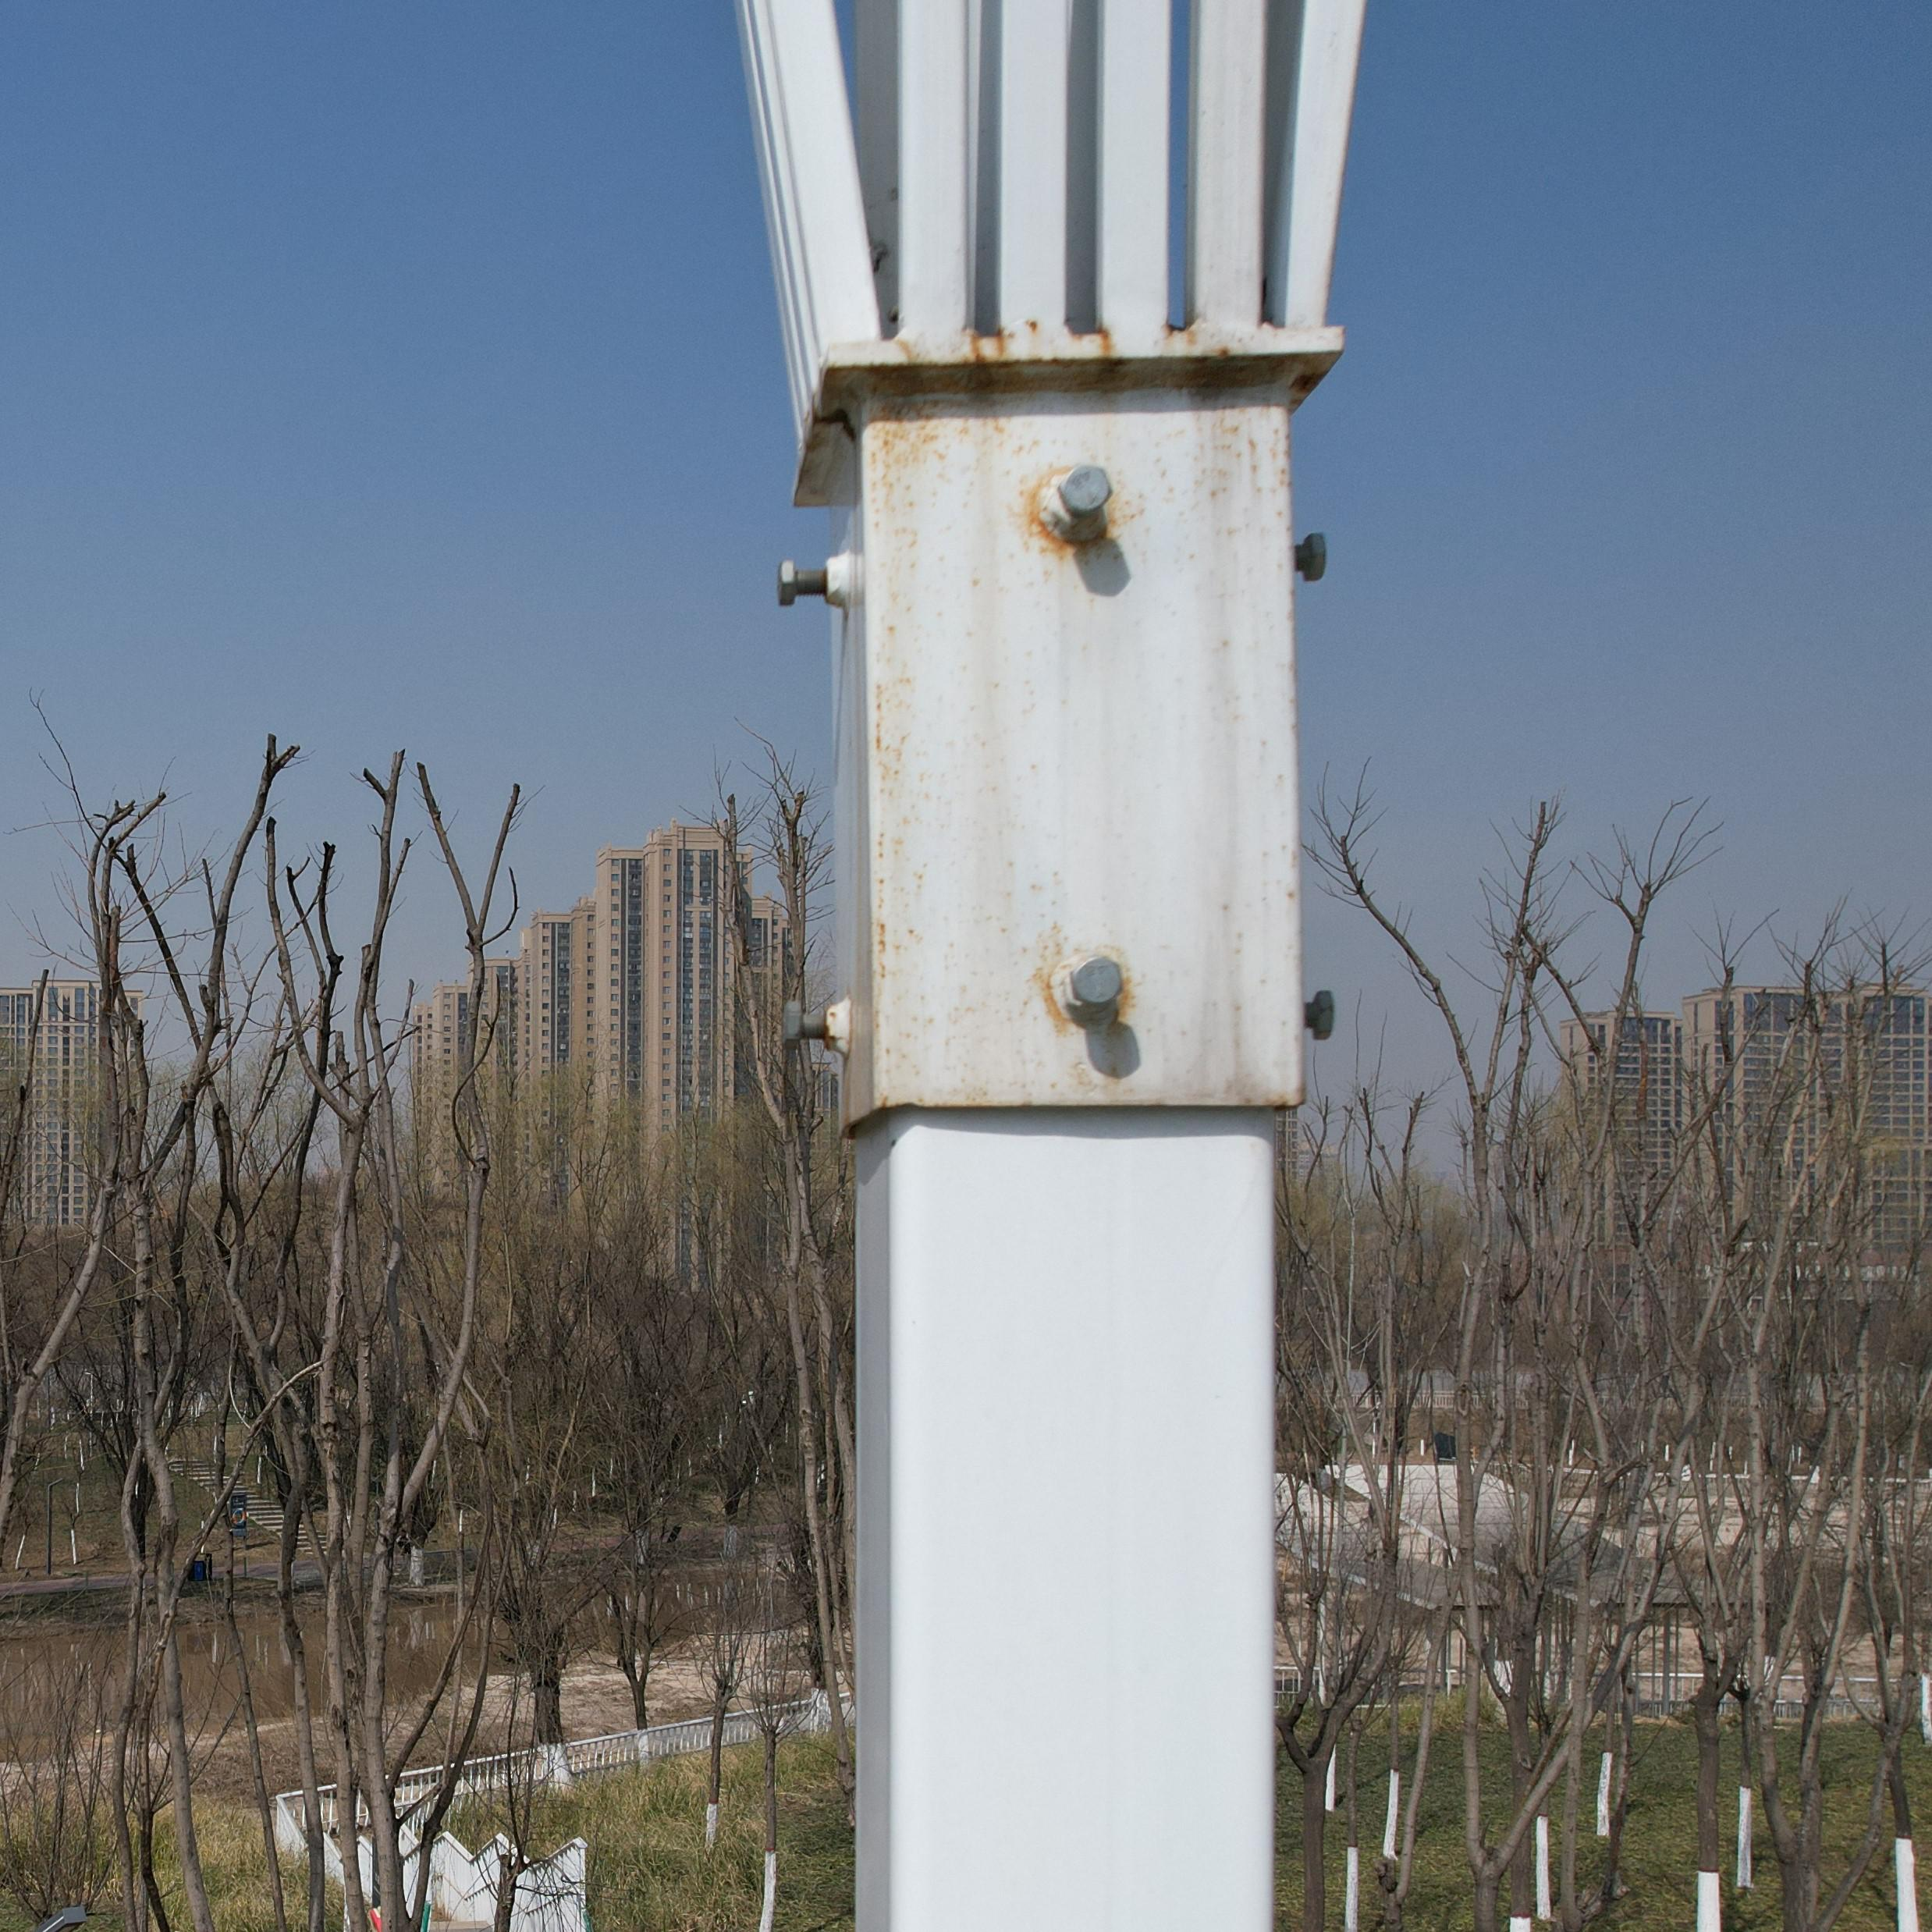bolt_a: (1069, 952, 1125, 1012), (1054, 464, 1115, 518)
bolt_c: (777, 996, 810, 1051), (1309, 989, 1339, 1044), (1300, 531, 1330, 582), (773, 559, 803, 609)
